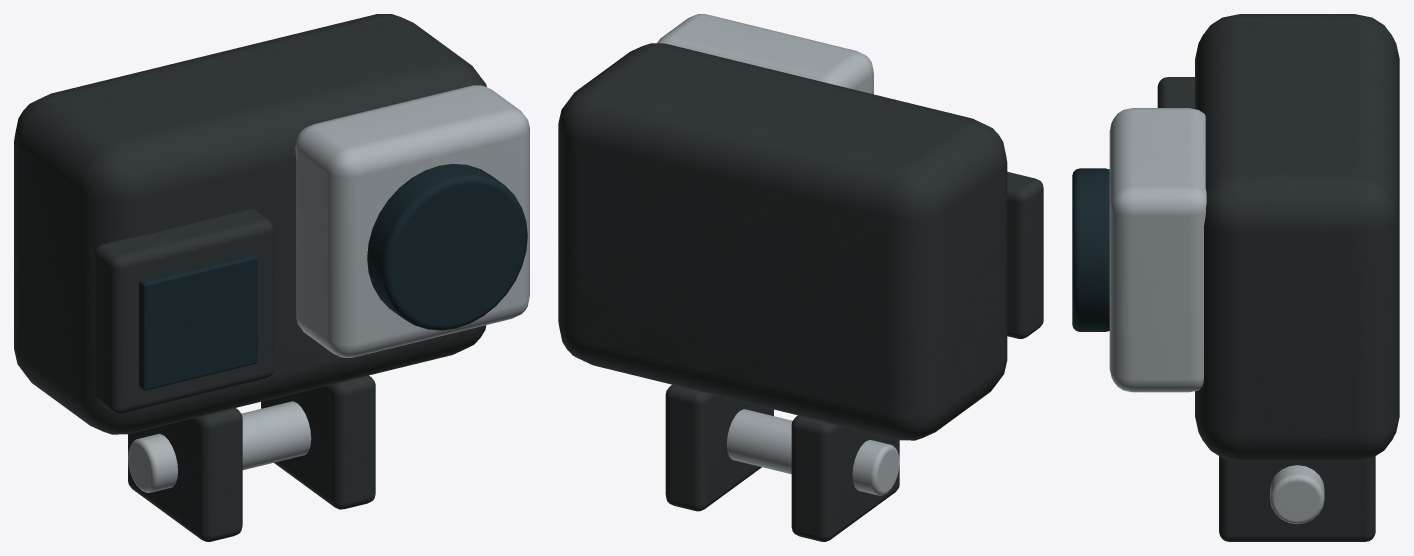
The model's file is action-camera.glb.
3 renders of one model, left to right at view 1: azimuth 30°, elevation 25°; view 2: azimuth 150°, elevation 25°; view 3: azimuth 270°, elevation 25°, orthographic. The views are drawn at different scales.
Parts seen in each view (by area): view 1: Rugged action camera, Square optical surround, Protected camera lens, Screen surround, Inset display glass, Camera mount fork, Camera mount fork.001, Mount pivot; view 2: Rugged action camera, Camera mount fork, Camera mount fork.001, Square optical surround, Screen surround, Mount pivot; view 3: Rugged action camera, Square optical surround, Camera mount fork.001, Protected camera lens, Mount pivot, Screen surround.
Part boxes in pixels (x1,y1,x2,y2): Rugged action camera: (14,14,486,434); Square optical surround: (295,85,529,357); Protected camera lens: (367,164,527,330); Screen surround: (94,209,273,413); Inset display glass: (139,253,257,390); Camera mount fork: (128,408,242,541); Camera mount fork.001: (261,375,375,509); Mount pivot: (128,401,311,492); Rugged action camera: (558,43,1007,440); Camera mount fork: (791,415,899,541); Camera mount fork.001: (665,385,773,511); Square optical surround: (657,14,873,94); Screen surround: (1007,171,1043,338); Mount pivot: (726,409,899,495); Rugged action camera: (1195,14,1399,461); Square optical surround: (1109,108,1206,392); Camera mount fork.001: (1219,456,1375,541); Protected camera lens: (1072,168,1109,331); Mount pivot: (1270,465,1324,524); Screen surround: (1157,77,1194,108).
Size of the model in its own units: 0.068 by 0.066 by 0.048.
3 materials, 3 textured.
